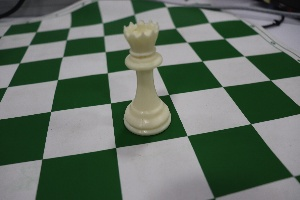white_queen: (116, 12, 176, 138)
